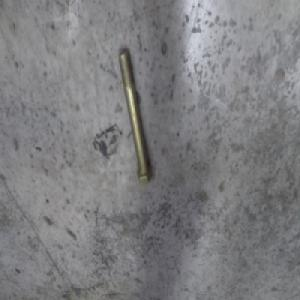Bolt: (120, 49, 154, 184)
